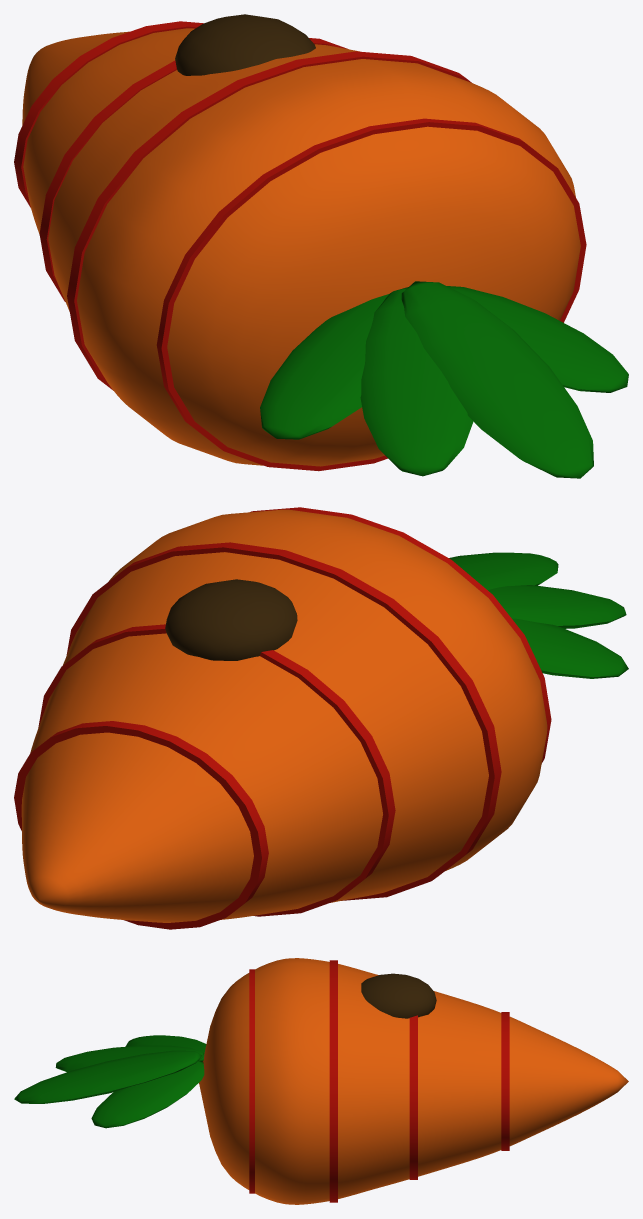
File: carrot.glb
The picture shows the model from 3 angles, top to bottom: view 1: azimuth 30°, elevation 25°; view 2: azimuth 150°, elevation 25°; view 3: azimuth 270°, elevation 25°; orthographic projection. The views are drawn at different scales.
Visible parts, largest first — view 1: body, leaf.002, leaf.001, leaf, ridge.003, leaf.003, canopy, ridge.002, ridge.001, ridge; view 2: body, canopy, ridge.002, ridge, ridge.001, leaf.001, leaf, leaf.002, ridge.003; view 3: body, leaf.002, leaf.003, canopy, ridge.002, leaf.001, ridge.001, ridge.003, ridge, leaf.
Boxes of the visible parts, x1,y1,x2,y2 form: body: [22, 28, 580, 466]; leaf.002: [401, 281, 593, 478]; leaf.001: [360, 287, 473, 476]; leaf: [260, 294, 388, 439]; ridge.003: [156, 118, 586, 471]; leaf.003: [447, 286, 628, 392]; canopy: [175, 14, 315, 75]; ridge.002: [67, 51, 471, 390]; ridge.001: [39, 38, 348, 301]; ridge: [14, 21, 203, 207]; body: [21, 509, 547, 922]; canopy: [165, 579, 297, 660]; ridge.002: [66, 542, 501, 900]; ridge: [14, 721, 268, 929]; ridge.001: [38, 624, 395, 916]; leaf.001: [488, 585, 626, 628]; leaf: [512, 618, 628, 678]; leaf.002: [449, 552, 558, 589]; ridge.003: [250, 507, 551, 763]; body: [199, 958, 628, 1204]; leaf.002: [14, 1050, 202, 1103]; leaf.003: [91, 1061, 204, 1128]; canopy: [361, 973, 436, 1018]; ridge.002: [329, 960, 337, 1202]; leaf.001: [55, 1045, 203, 1071]; ridge.001: [409, 1015, 417, 1179]; ridge.003: [249, 969, 254, 1193]; ridge: [501, 1012, 509, 1150]; leaf: [125, 1035, 206, 1061].
Bounding box in the file's own units: 13.48 × 10.11 × 26.87.
